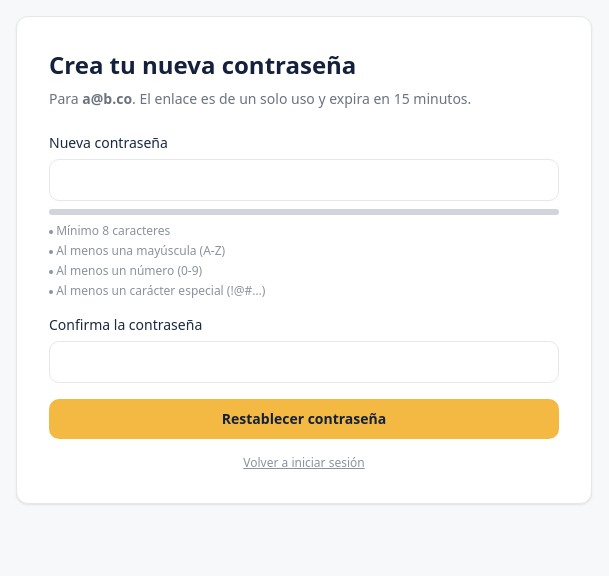
Restablecer (fortaleza v13 + un solo uso) › enlace usado muestra error accionable
Step 1. Type "Segura1!x" into the password field labelled "Nueva contraseña" → coordinates (304, 180), box 49,159 -> 559,201
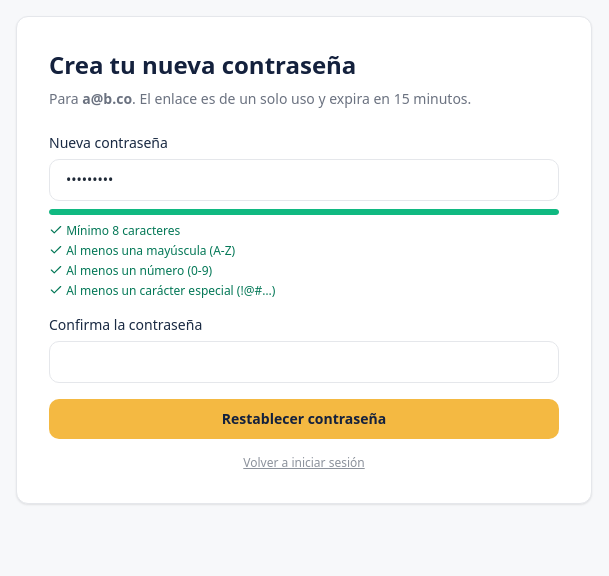
Step 2. Type "Segura1!x" into the password field labelled "Confirma la contraseña" → coordinates (304, 362), box 49,341 -> 559,383
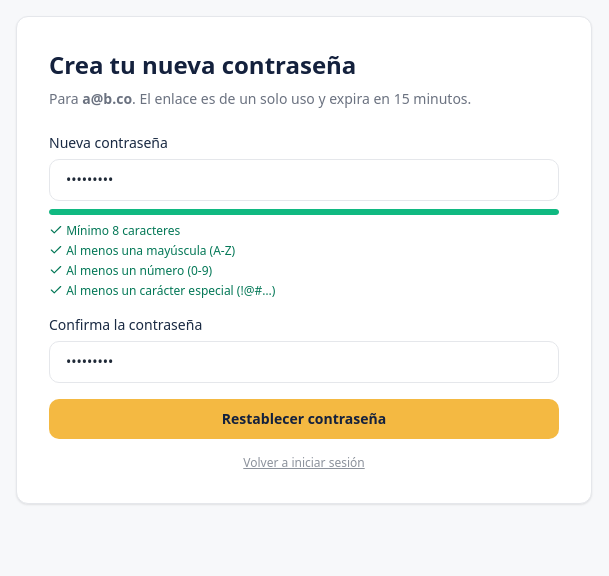
Step 3. Click the button "Restablecer contraseña" → coordinates (304, 419), box 49,399 -> 559,439
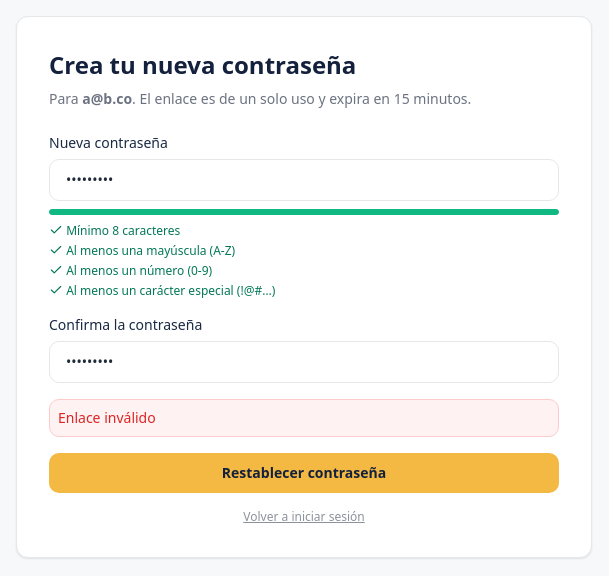
Now the text "Enlace inválido" is shown, box 49,399 -> 559,437
